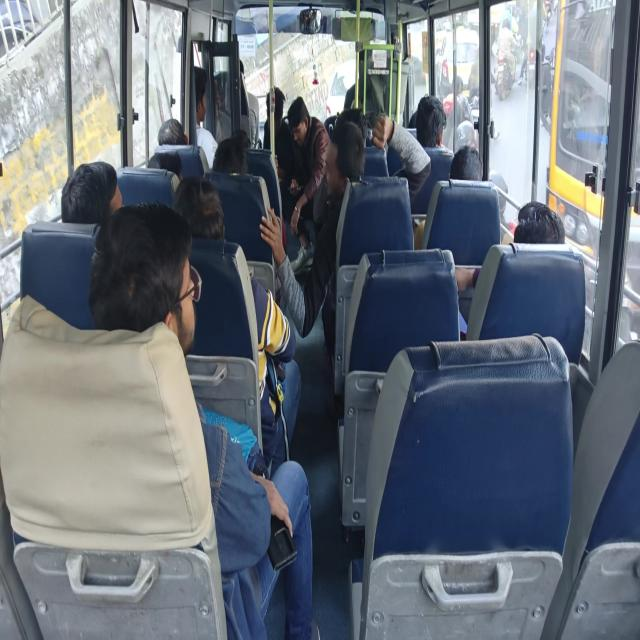person: (88, 200, 317, 638), (172, 176, 302, 477), (259, 119, 366, 347), (455, 200, 565, 336), (284, 96, 330, 237), (448, 144, 514, 242), (371, 112, 431, 198), (60, 160, 123, 224), (263, 86, 295, 182), (192, 66, 218, 170), (513, 201, 565, 244), (415, 94, 448, 150), (212, 131, 249, 174), (497, 16, 517, 83), (449, 144, 483, 180), (157, 118, 188, 145), (455, 119, 478, 152)
